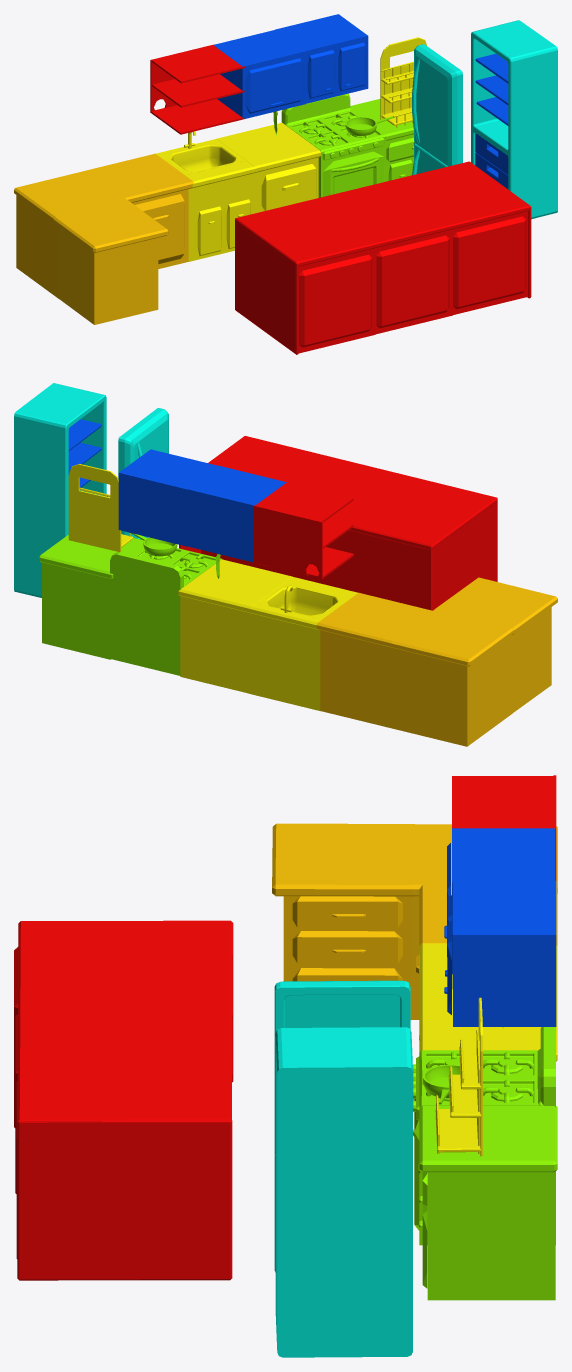
File: full_kitchen_models.fbx
3 renders of one model, top to bottom at view 1: azimuth 30°, elevation 25°; view 2: azimuth 150°, elevation 25°; view 3: azimuth 270°, elevation 25°, orthographic. The views are drawn at different scales.
Visible parts, largest first — view 1: kitchen_island1, polySurface150, counter_1, sink, stove, cabinet_planks, cabinet_1, counter_2, counter_3, cabinet_2, polySurface151, polySurface91 (+10 smaller); view 2: kitchen_island1, polySurface150, polySurface90, counter_2, sink, stove, counter_3, counter_4, cabinet_planks, counter_1, cabinet_2, cabinet_1 (+6 smaller); view 3: kitchen_island1, polySurface150, counter_4, counter_1, cabinet_2, stove, polySurface151, cabinet_1, cabinet_planks, spice_rack1, counter_3, polySurface91 (+4 smaller).
Boxes of the visible parts, <box> form: kitchen_island1: <box>235,161,531,354</box>; polySurface150: <box>471,20,557,219</box>; counter_1: <box>53,200,168,324</box>; sink: <box>156,131,259,261</box>; stove: <box>281,93,386,197</box>; cabinet_planks: <box>150,44,244,134</box>; cabinet_1: <box>213,30,306,118</box>; counter_2: <box>87,153,193,268</box>; counter_3: <box>216,123,320,212</box>; cabinet_2: <box>275,14,368,103</box>; polySurface151: <box>414,44,462,166</box>; polySurface91: <box>14,170,126,221</box>; kitchen_island1: <box>179,436,497,610</box>; polySurface150: <box>14,383,106,597</box>; polySurface90: <box>389,635,512,746</box>; counter_2: <box>317,593,432,727</box>; sink: <box>247,577,358,711</box>; stove: <box>110,547,221,675</box>; counter_3: <box>178,559,292,693</box>; counter_4: <box>39,535,144,659</box>; cabinet_planks: <box>253,482,353,579</box>; counter_1: <box>434,577,557,712</box>; cabinet_2: <box>118,449,219,546</box>; cabinet_1: <box>187,465,286,562</box>; kitchen_island1: <box>14,920,233,1280</box>; polySurface150: <box>275,1027,412,1357</box>; counter_4: <box>418,1106,557,1300</box>; counter_1: <box>272,823,414,1019</box>; cabinet_2: <box>444,881,556,1026</box>; stove: <box>413,1027,555,1245</box>; polySurface151: <box>274,980,410,1151</box>; cabinet_1: <box>444,828,555,974</box>; cabinet_planks: <box>452,775,556,880</box>; spice_rack1: <box>435,997,482,1156</box>; counter_3: <box>419,995,557,1061</box>; polySurface91: <box>398,824,557,896</box>.
Bounding box in the file's own units: 5.85 × 2.16 × 3.4.
